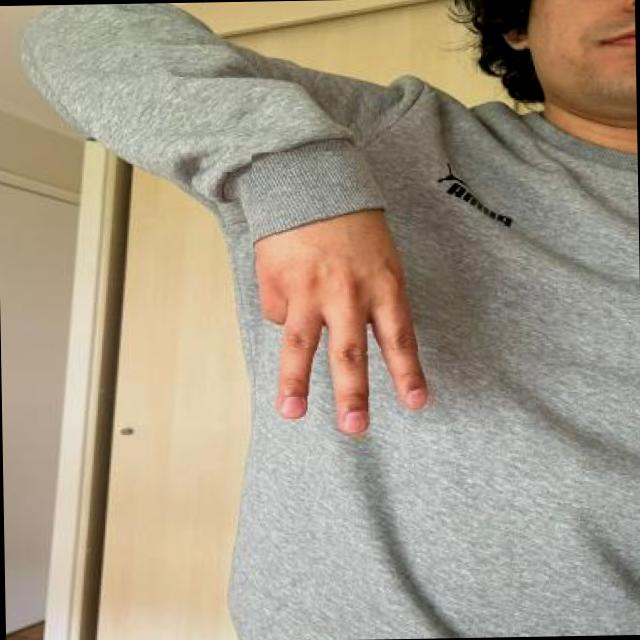M: (251, 150, 439, 440)
